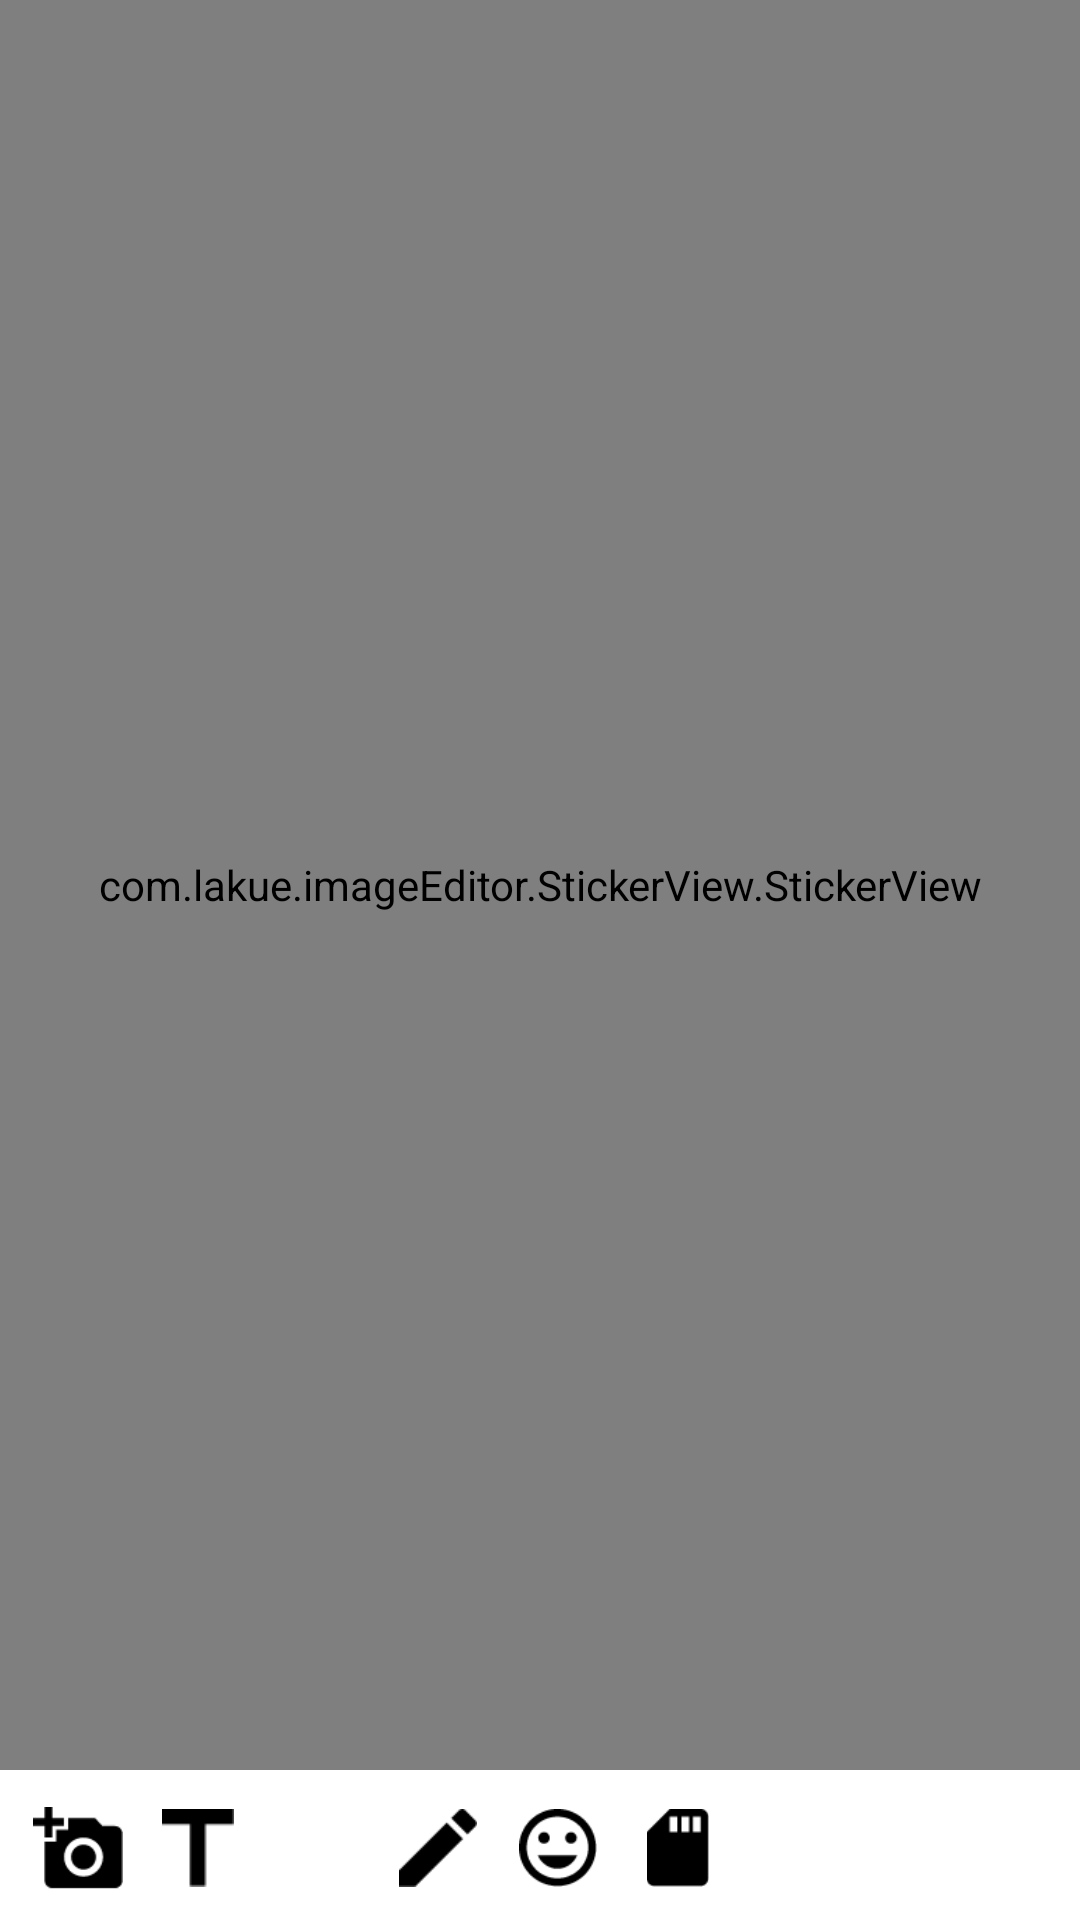

Where icons sit on this 1080w x 1920h app screen, as bbox(x1, y1, x2, y2):
add photo: bbox(33, 1807, 123, 1889)
create: bbox(399, 1809, 477, 1887)
sd storage: bbox(647, 1809, 709, 1887)
tag faces: bbox(519, 1809, 597, 1887)
title: bbox(162, 1809, 234, 1887)
